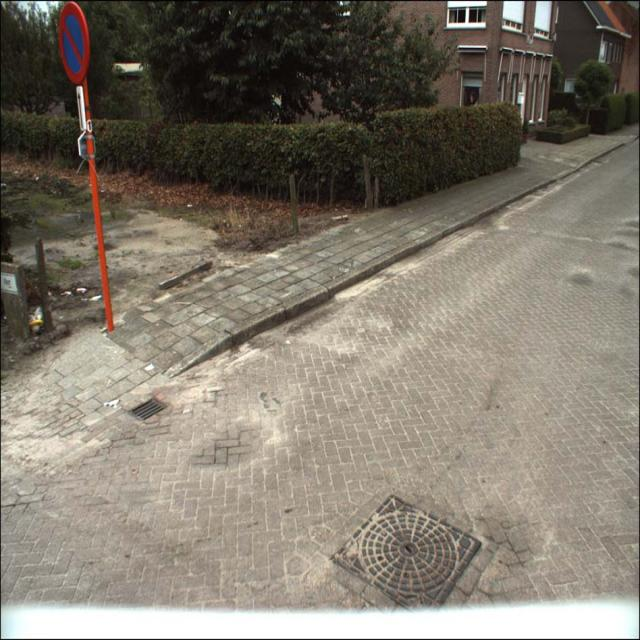parkyasak: (59, 2, 88, 83)
